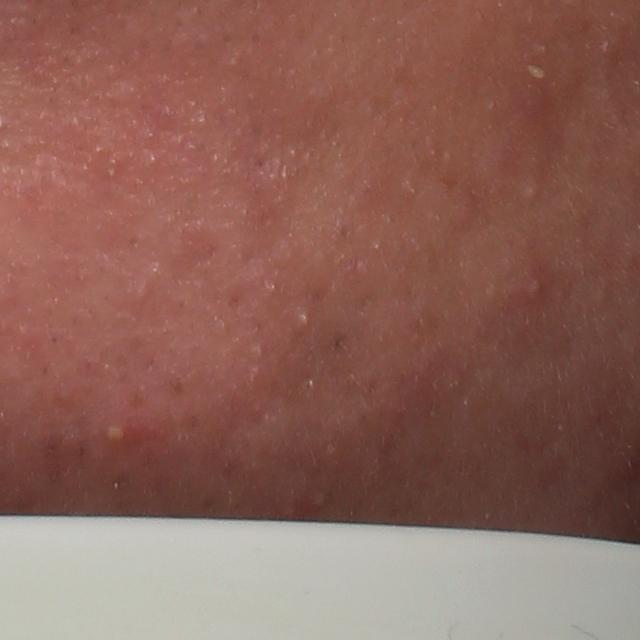comedo: (522, 182, 545, 203), (298, 311, 313, 327)
pustule: (99, 415, 138, 450)
